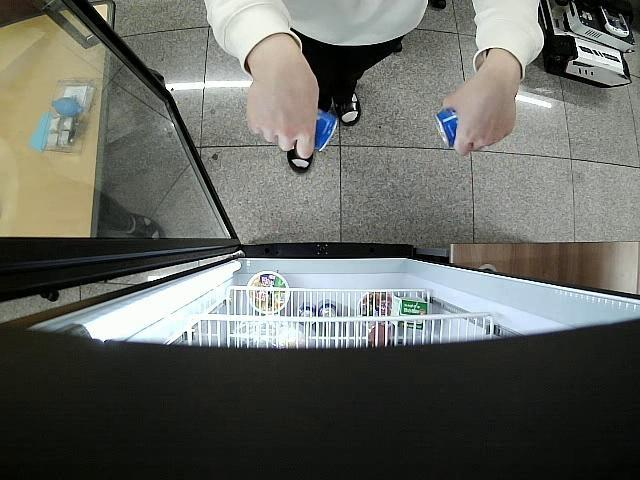15_letsbe: (315, 108, 338, 152), (434, 108, 458, 146)
